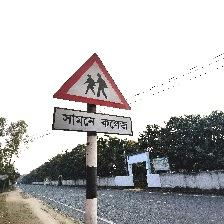College-in-front: (34, 36, 145, 163)
